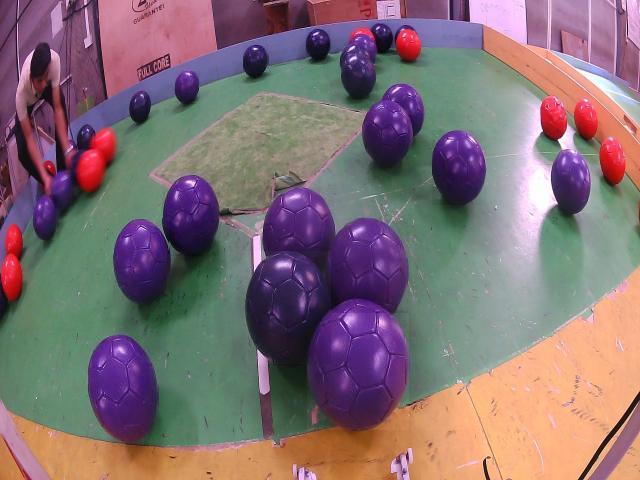jambhalya: (307, 300, 409, 430), (326, 219, 409, 313), (88, 335, 158, 443), (263, 187, 335, 268), (345, 219, 407, 313), (114, 219, 169, 303), (163, 175, 220, 256), (433, 130, 486, 205), (363, 100, 412, 166), (552, 150, 591, 213), (383, 83, 425, 136), (33, 195, 57, 240), (52, 170, 72, 210), (350, 34, 377, 63), (175, 72, 200, 103)
kaalyya: (245, 252, 331, 364), (342, 54, 376, 98), (340, 43, 373, 67), (244, 45, 268, 78), (306, 30, 330, 61), (129, 90, 151, 123), (371, 24, 394, 53), (72, 148, 86, 180), (77, 125, 94, 147), (395, 25, 415, 42), (0, 278, 7, 317), (373, 47, 377, 58)
